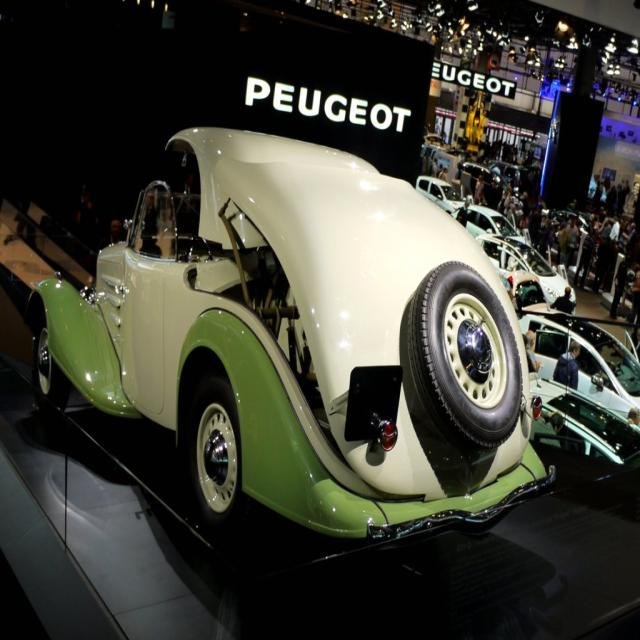car: (41, 103, 564, 549)
